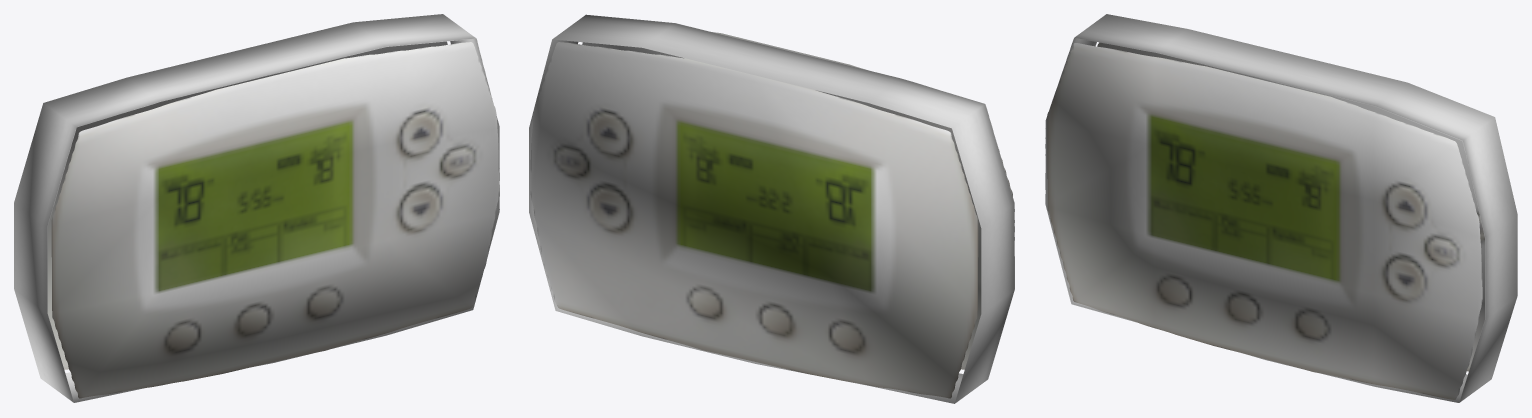
File: thermostat.FBX
3 renders of one model, left to right at view 1: azimuth 30°, elevation 25°; view 2: azimuth 150°, elevation 25°; view 3: azimuth 330°, elevation 25°, orthographic. The views are drawn at different scales.
Visible parts, largest first — view 1: thermostat; view 2: thermostat; view 3: thermostat.
Part boxes in pixels (x1,y1,x2,y2): thermostat: (14,14,499,402); thermostat: (529,14,1014,403); thermostat: (1045,14,1517,402).
Bounding box in the file's own units: 9.44 × 5.76 × 1.26.
